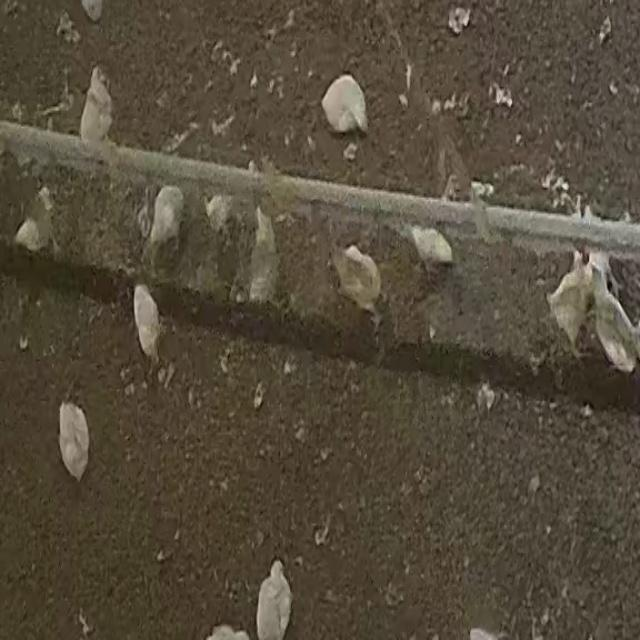chicken: (330, 242, 383, 316), (397, 211, 455, 266), (56, 397, 94, 478), (320, 74, 369, 135), (19, 185, 60, 256), (256, 560, 292, 640), (79, 64, 114, 146), (132, 284, 164, 368), (150, 176, 188, 245)
